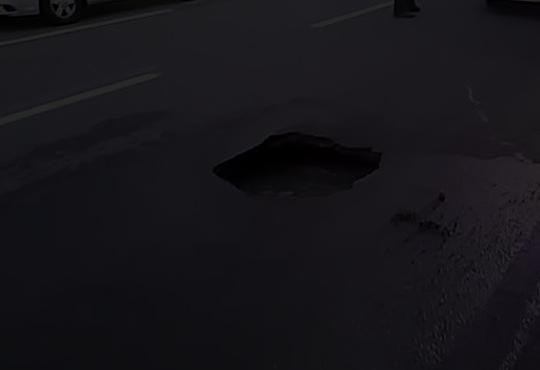pothole: (199, 114, 401, 226)
